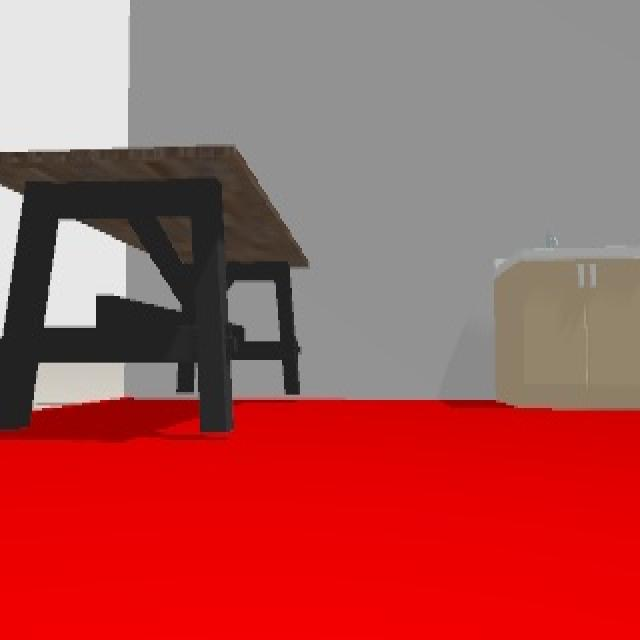dining: (2, 145, 312, 439)
